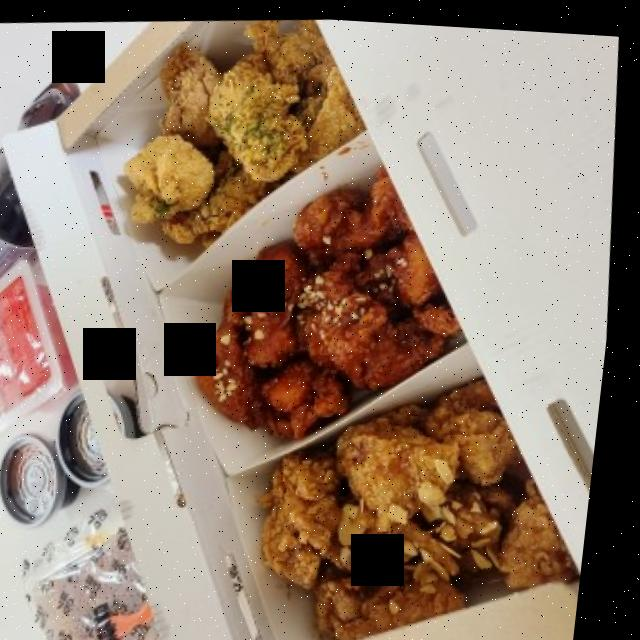Frango: (178, 158, 477, 425), (78, 4, 368, 223)
